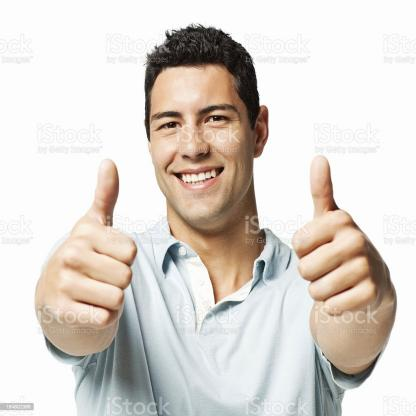Thumbs-Up: (30, 142, 146, 360), (281, 137, 392, 352)
